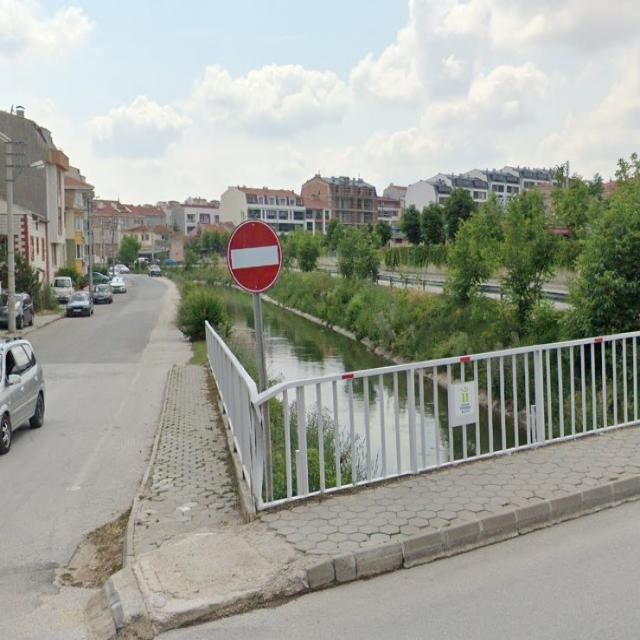girisyok: (227, 218, 282, 293)
